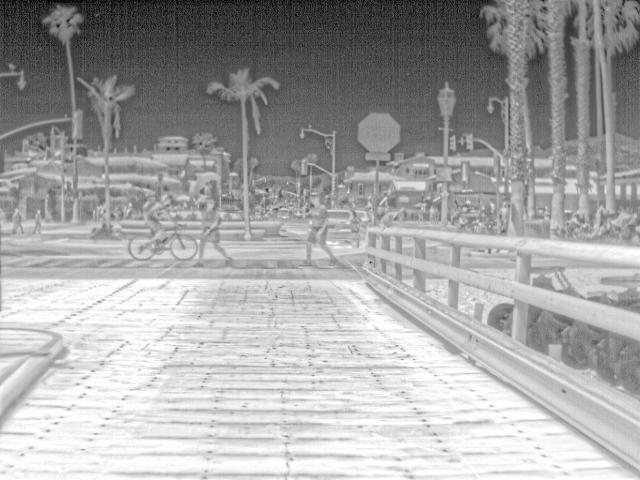car: (326, 207, 363, 247), (352, 209, 371, 228)
person: (297, 194, 343, 265), (190, 209, 236, 268), (144, 203, 172, 255), (9, 206, 26, 236), (29, 207, 45, 235), (122, 200, 137, 220)
